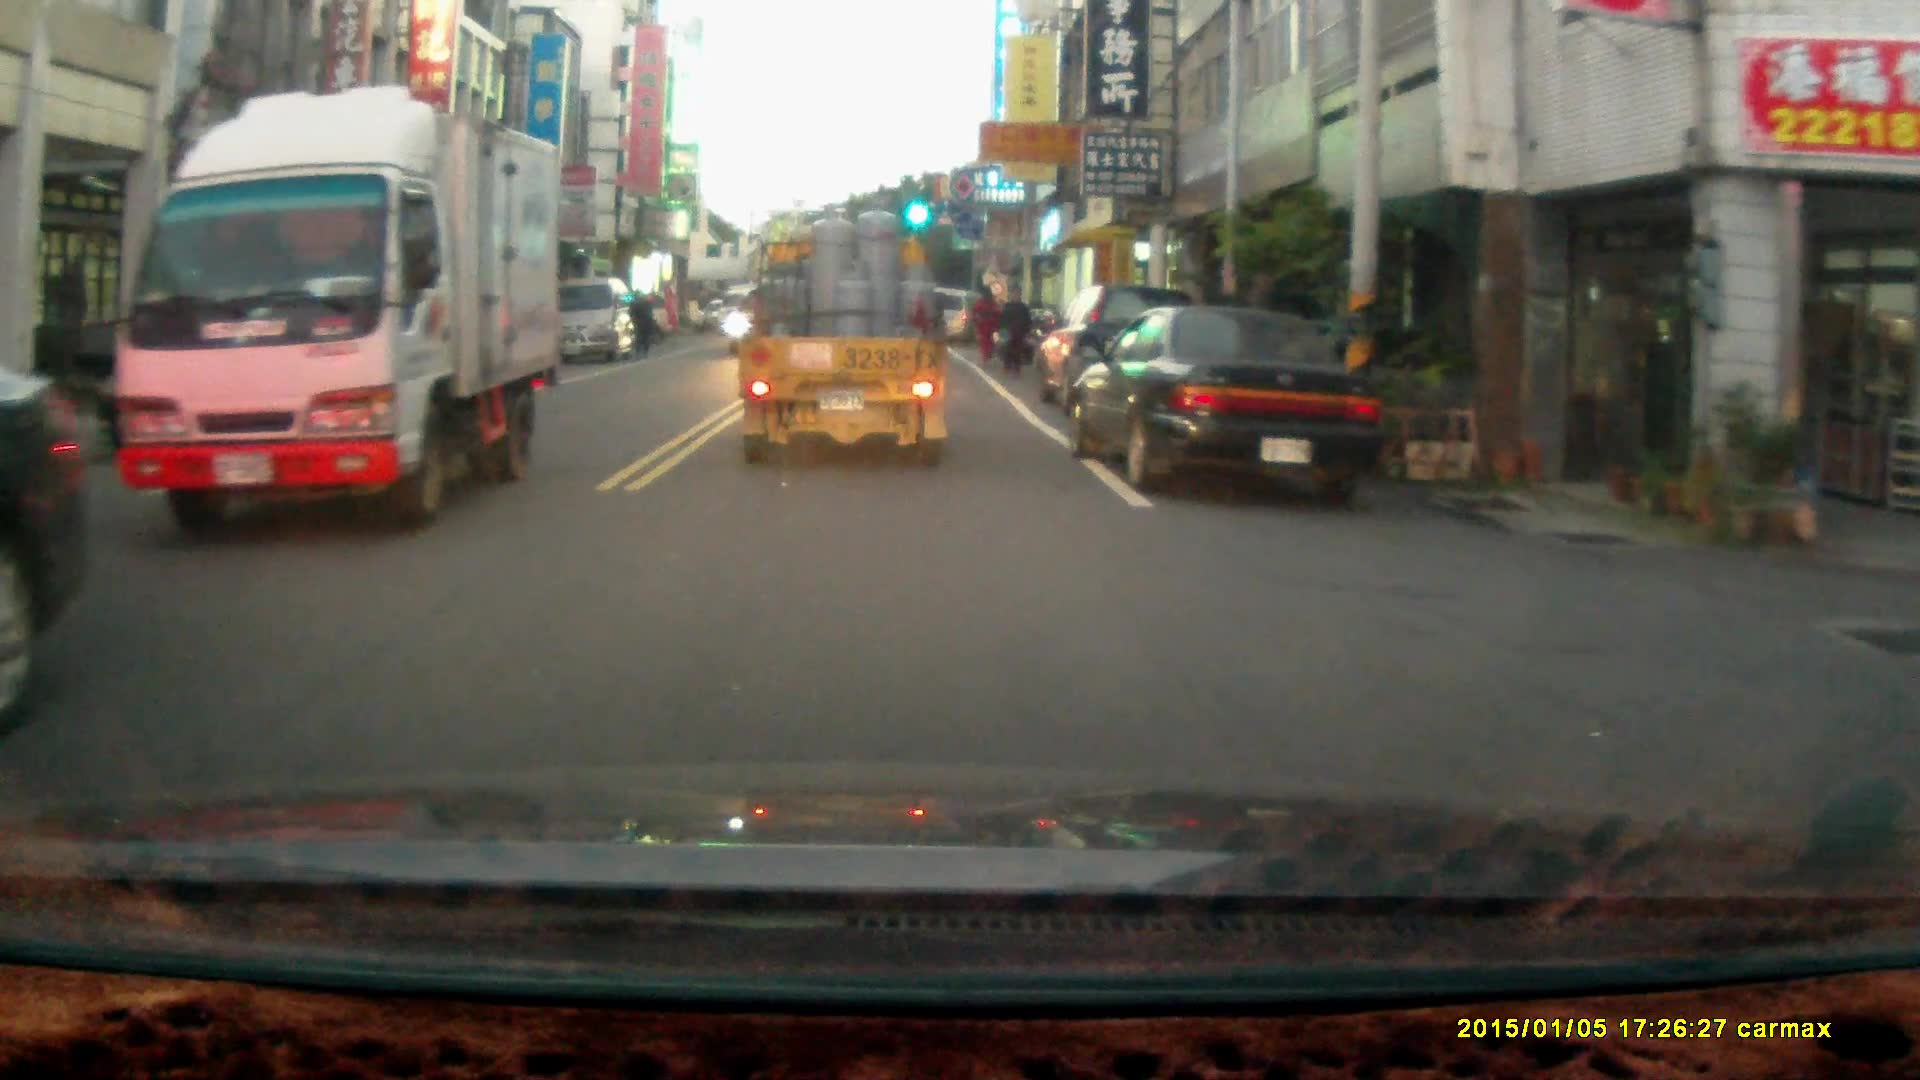pedestrian: (994, 280, 1030, 378), (967, 285, 1001, 367), (624, 290, 654, 362)
vehicle: (104, 88, 561, 536), (733, 192, 955, 473), (1070, 307, 1387, 502), (1, 361, 94, 664), (570, 277, 642, 366)
